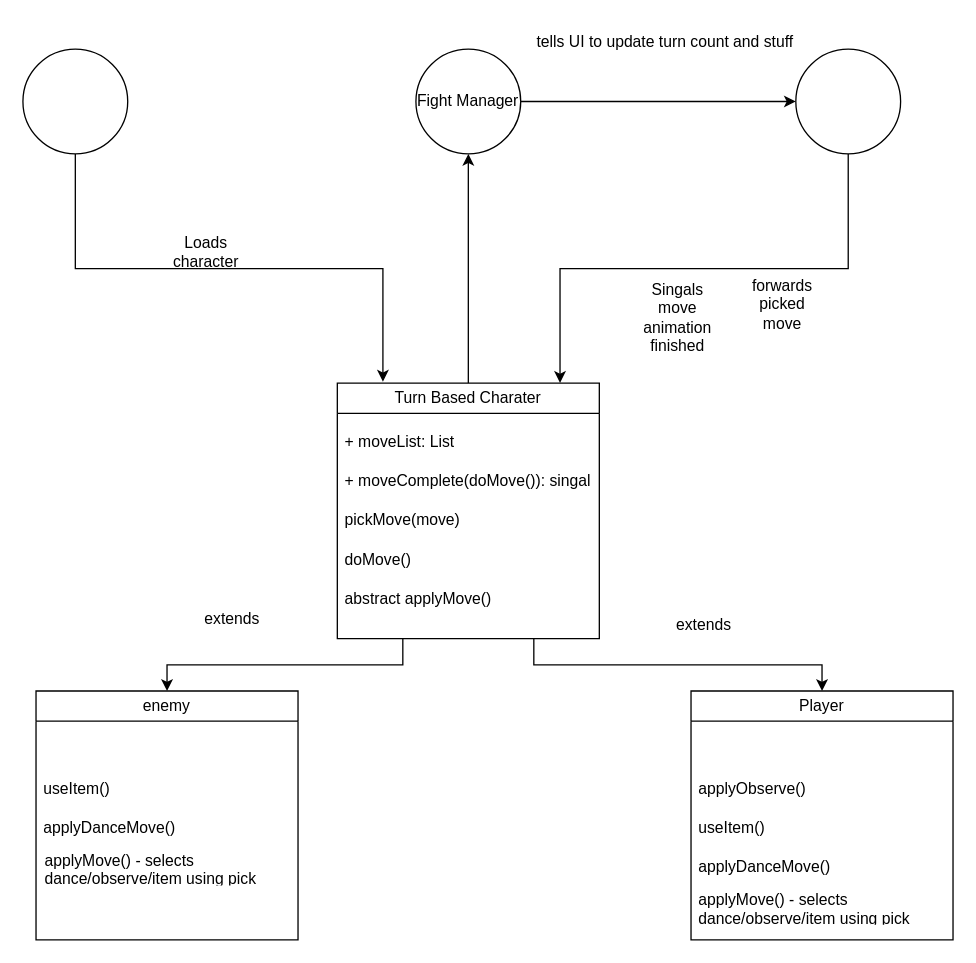
This 976x963 diagram has some shape labels left out. Each missing label, with the centre of its shape:
"GM" belongs at point (75, 101).
"UI Manager" belongs at point (848, 101).
